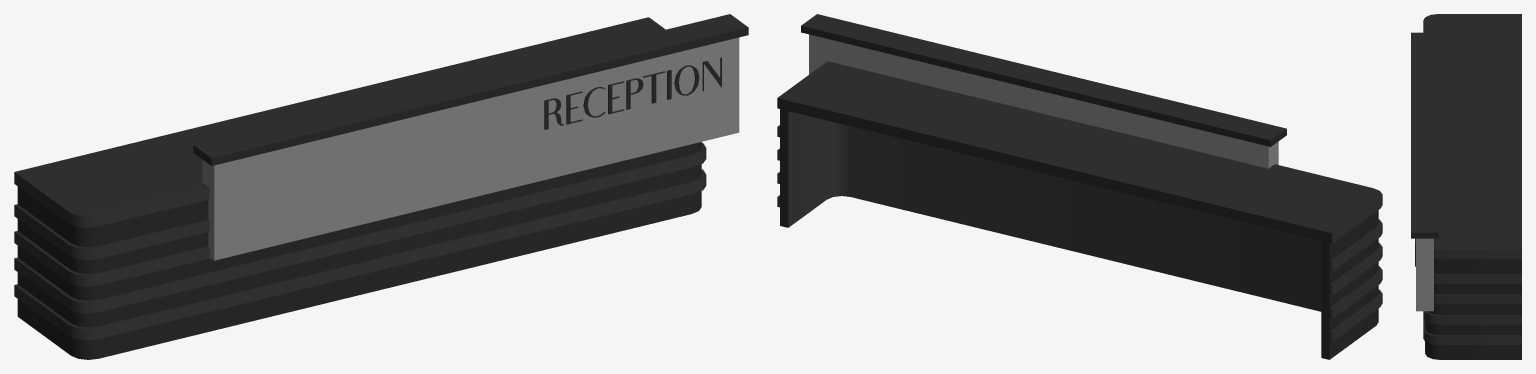
File: SM_Props_Reception_03.fbx
The picture shows the model from 3 angles, left to right: view 1: azimuth 30°, elevation 25°; view 2: azimuth 150°, elevation 25°; view 3: azimuth 270°, elevation 25°; orthographic projection. The views are drawn at different scales.
Parts seen in each view (by area): view 1: SM_Props_Reception_03; view 2: SM_Props_Reception_03; view 3: SM_Props_Reception_03.
Boxes of the visible parts, x1=… form: SM_Props_Reception_03: x1=14, y1=14, x2=748, y2=359; SM_Props_Reception_03: x1=777, y1=14, x2=1382, y2=359; SM_Props_Reception_03: x1=1411, y1=14, x2=1521, y2=359.
Bounding box in the file's own units: 4.21 × 1.11 × 0.801.
